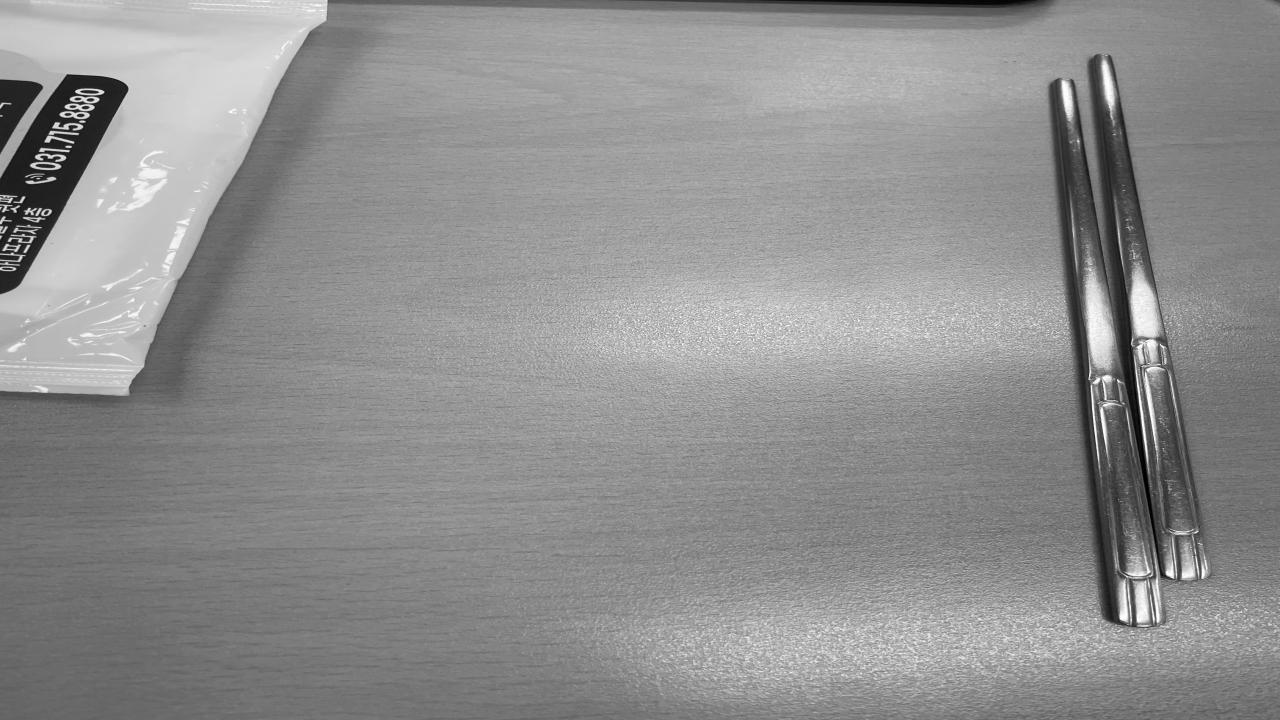chopstick: (1050, 54, 1215, 626)
